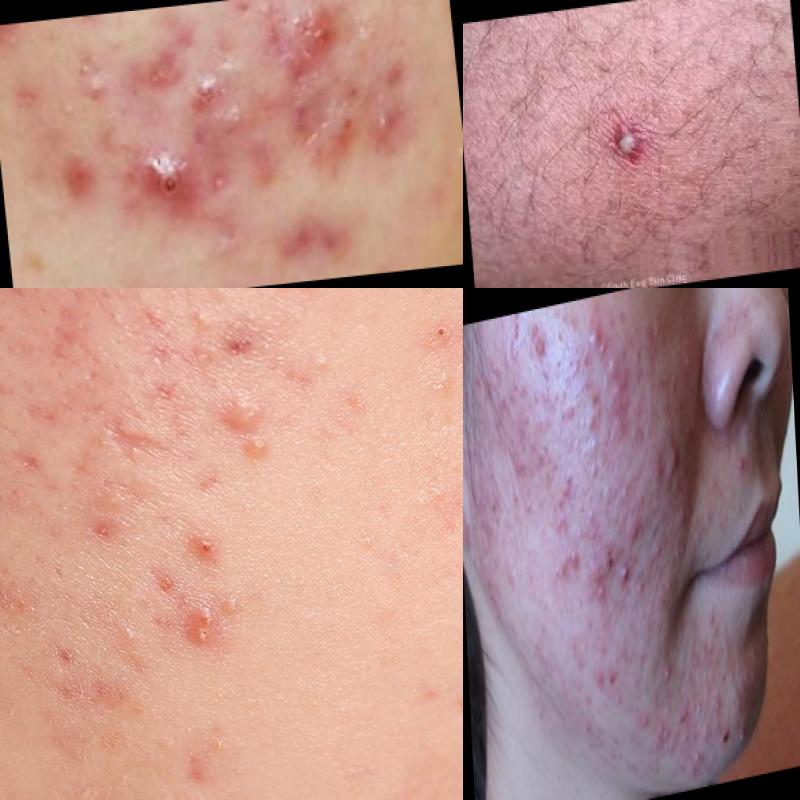acne_scars: (93, 410, 180, 476)
blackhead: (74, 44, 113, 109)
cystic: (665, 427, 686, 496)
folliculitis: (607, 113, 652, 171)
papular: (131, 145, 212, 225), (175, 67, 237, 119), (603, 356, 632, 444), (526, 313, 558, 378), (512, 414, 536, 478), (553, 467, 577, 525), (615, 547, 638, 599), (593, 659, 620, 696), (586, 383, 604, 435), (589, 319, 608, 366), (702, 626, 724, 666), (675, 703, 695, 747), (586, 436, 604, 478), (633, 569, 653, 606), (647, 531, 665, 570), (584, 500, 600, 534), (562, 393, 576, 427)
purulent: (213, 425, 285, 482), (728, 437, 758, 494), (668, 525, 695, 575), (658, 650, 685, 697), (627, 506, 647, 558), (686, 744, 711, 783), (735, 720, 755, 758), (710, 687, 729, 723)
sebo-crystan-conglo: (278, 3, 358, 80), (171, 595, 233, 676), (592, 539, 620, 614), (649, 716, 680, 771), (556, 535, 583, 588)
whitehead: (305, 328, 344, 416), (348, 510, 392, 570), (104, 296, 141, 341), (263, 289, 338, 309)
